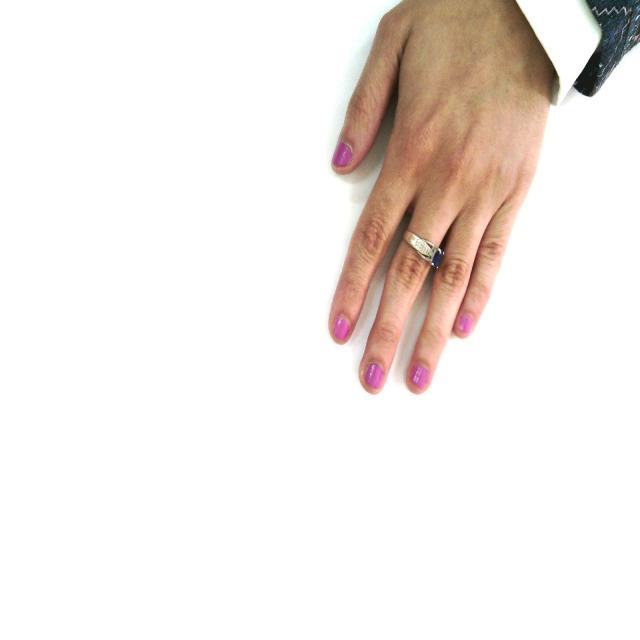Fingernail: (366, 363, 383, 388), (334, 315, 349, 343), (334, 142, 351, 166), (411, 364, 428, 387), (458, 315, 473, 334)
